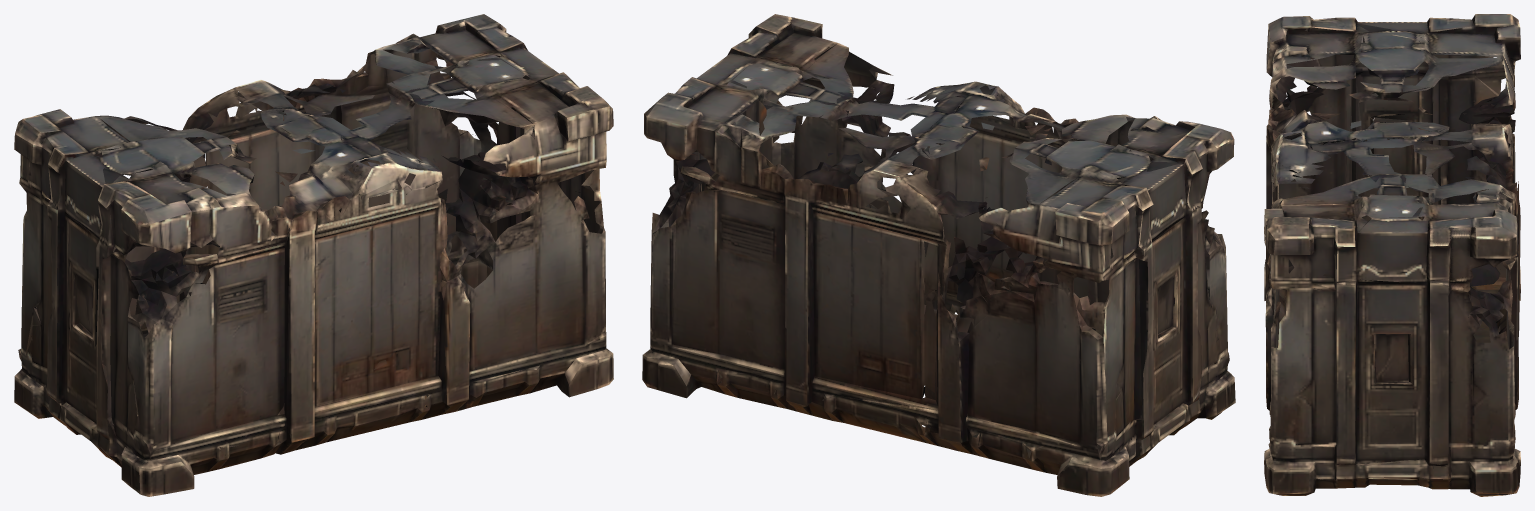
The model's file is CargoDestroyed.glb.
3 views of the same model, side by side, from view 1: azimuth 30°, elevation 25°; view 2: azimuth 150°, elevation 25°; view 3: azimuth 270°, elevation 25° (orthographic). The views are drawn at different scales.
Parts seen in each view (by area): view 1: Cargo; view 2: Cargo; view 3: Cargo.
Part boxes in pixels (box(x1,y1,x2,y2)): Cargo: box(14, 14, 613, 496); Cargo: box(642, 14, 1235, 496); Cargo: box(1264, 14, 1520, 496).
Bounding box in the file's own units: 10.31 × 6 × 5.12.
1 material, 1 textured.
